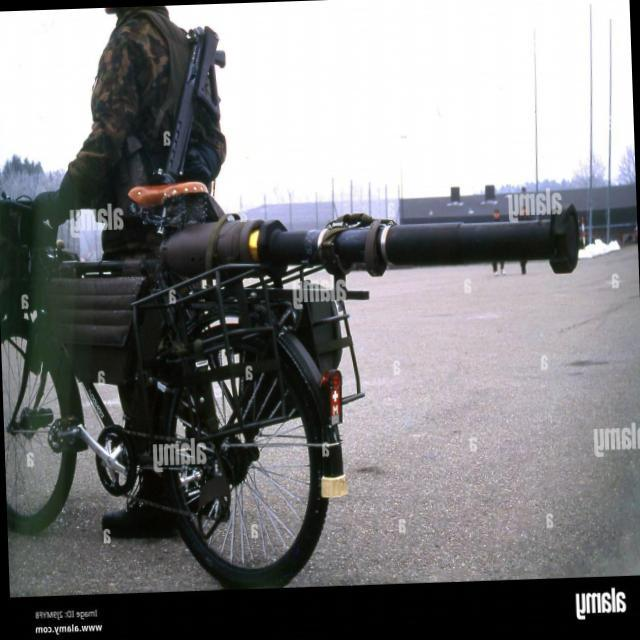rocket: (167, 188, 587, 298)
